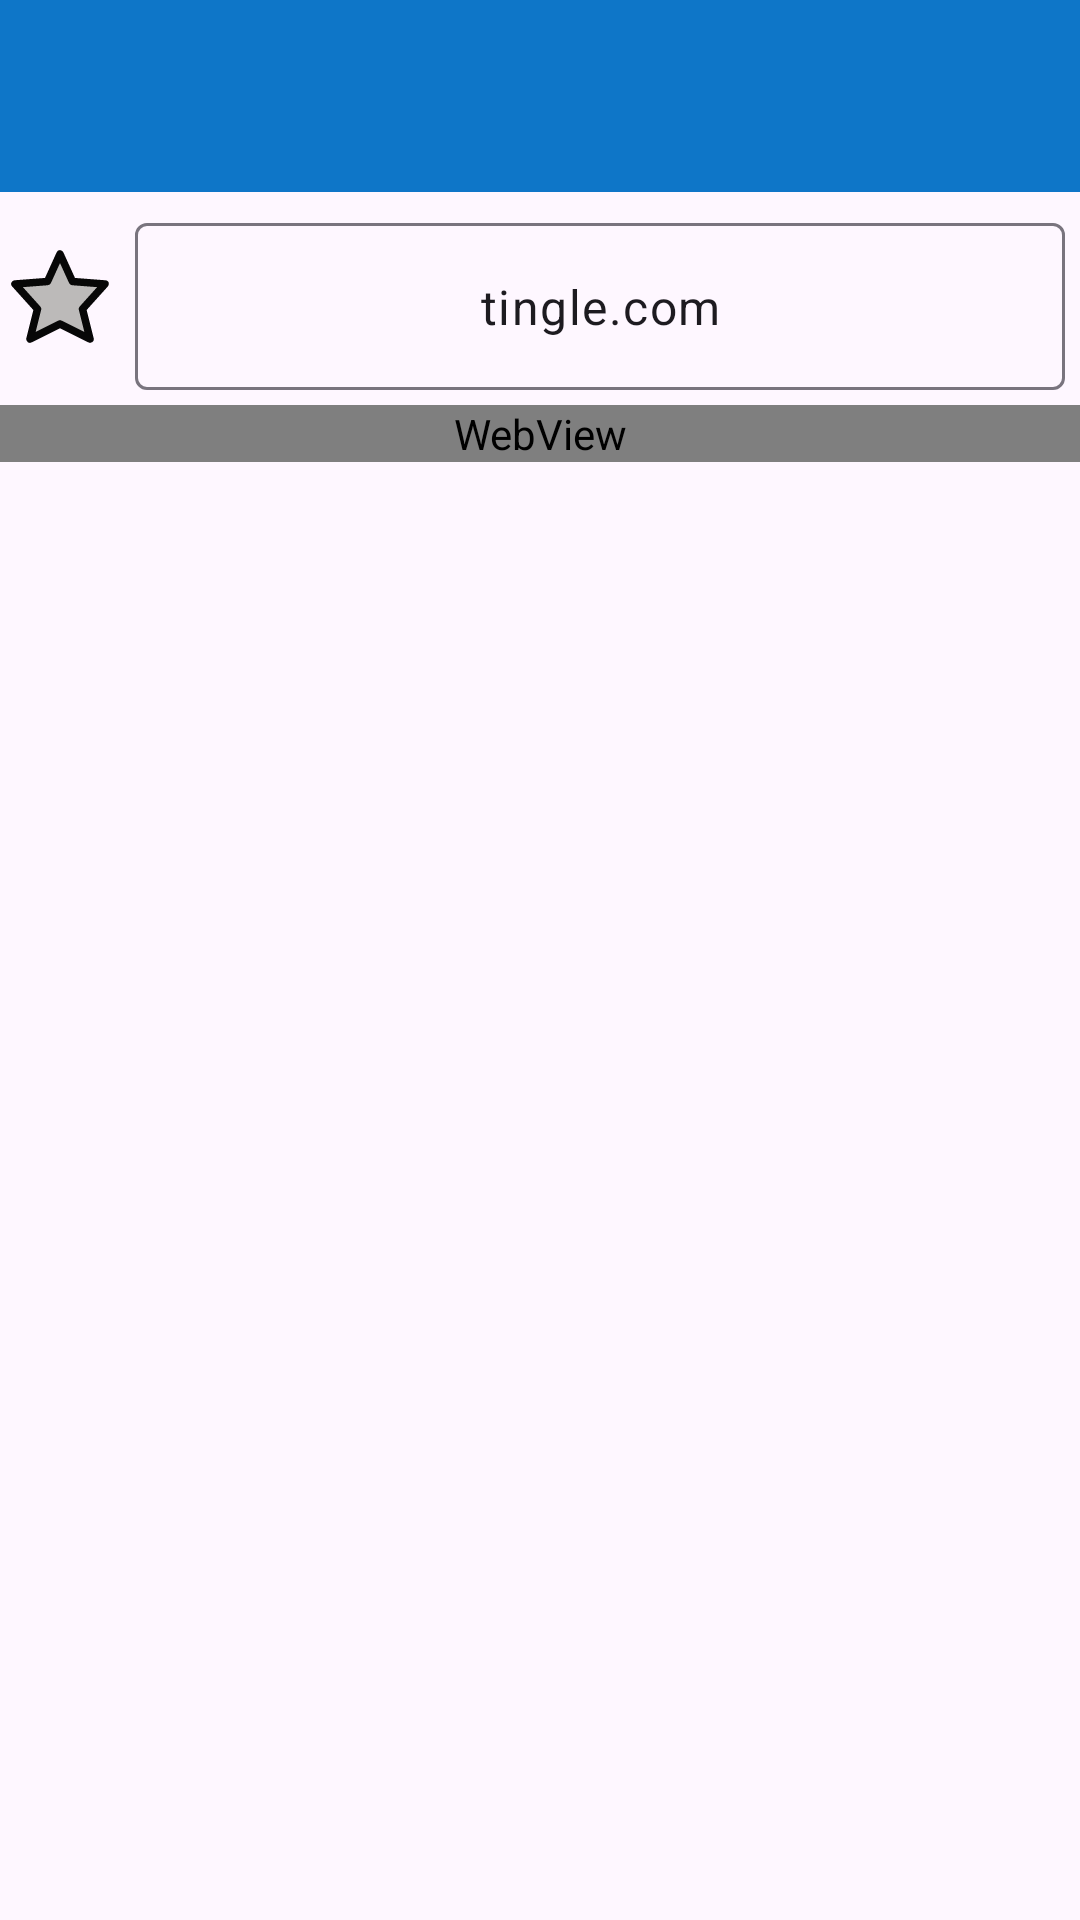

Screen size 1080px x 1920px. Icon name, then its center in pixels as (x=x, y=y):
star empty: (x=60, y=296)
